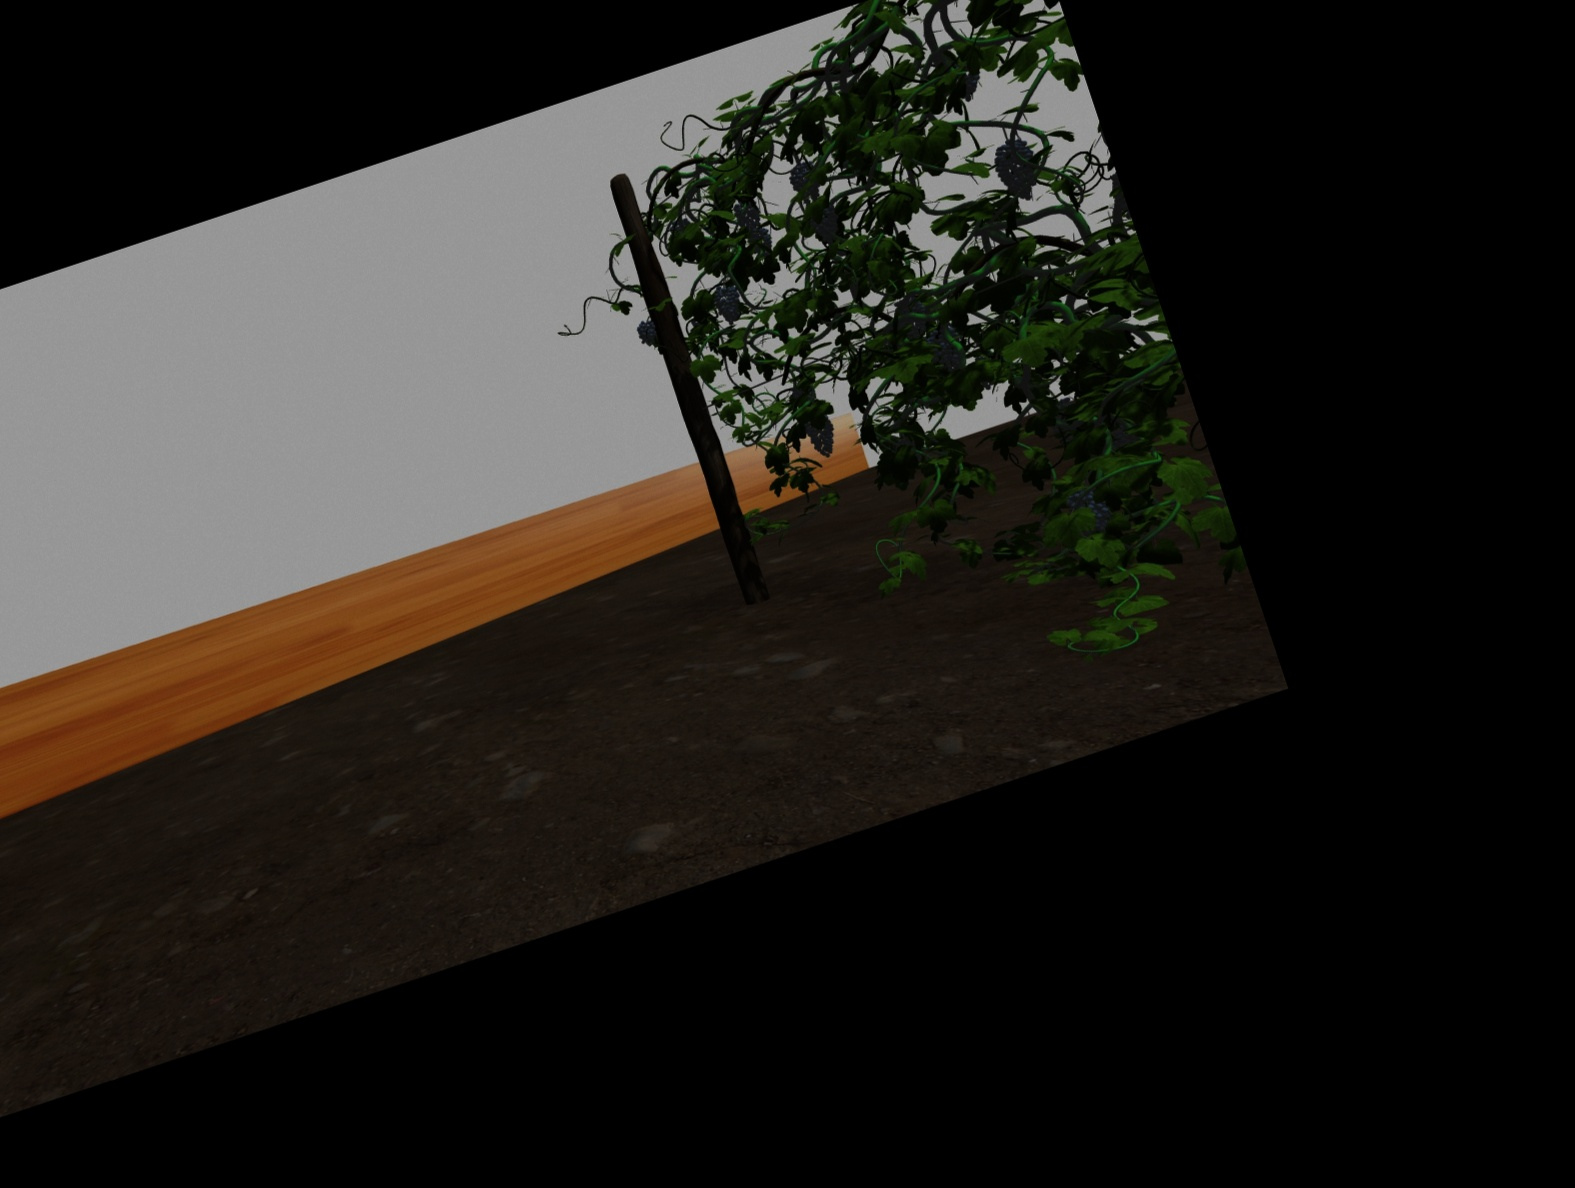grape: (997, 140, 1040, 200), (1070, 488, 1108, 534), (931, 324, 963, 369), (807, 414, 837, 458), (807, 206, 839, 241), (714, 285, 743, 322), (790, 162, 819, 198), (735, 202, 760, 230), (749, 226, 773, 252), (638, 318, 658, 348)
